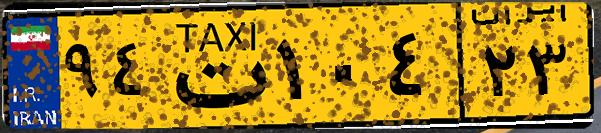0: (330, 28, 385, 110)
1: (270, 28, 330, 110)
2: (475, 38, 525, 113)
3: (525, 38, 570, 115)
4: (385, 28, 445, 110), (110, 28, 158, 98)
9: (57, 26, 110, 100)
ت: (158, 12, 270, 120)
